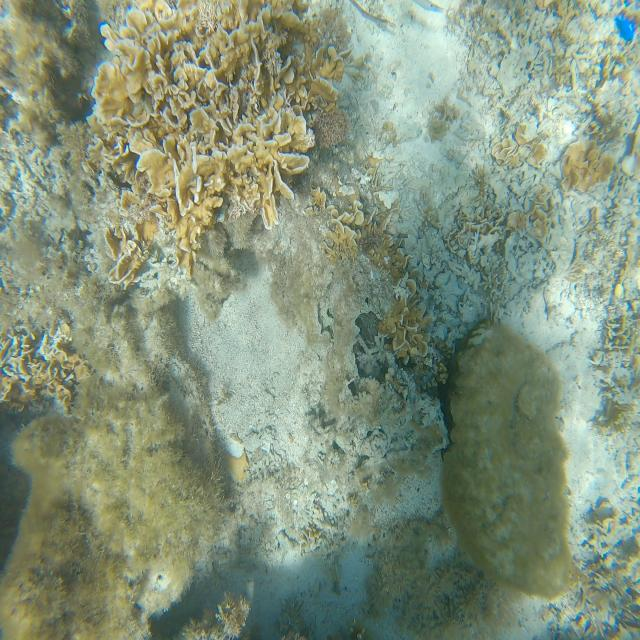rurisuzumedai: (614, 16, 635, 41)
